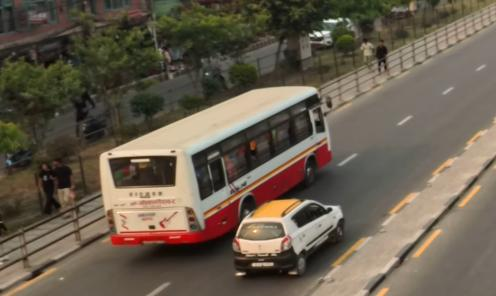bus: (98, 76, 344, 254)
taxi: (227, 193, 350, 280)
